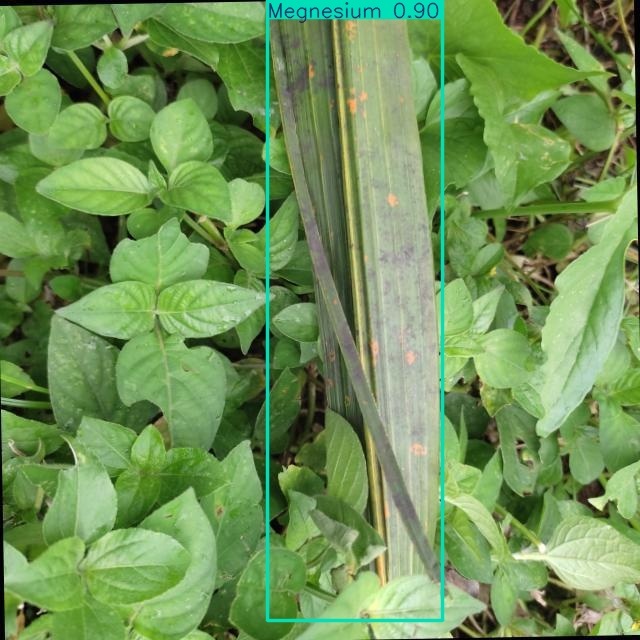Megnesium: (267, 1, 443, 621)
